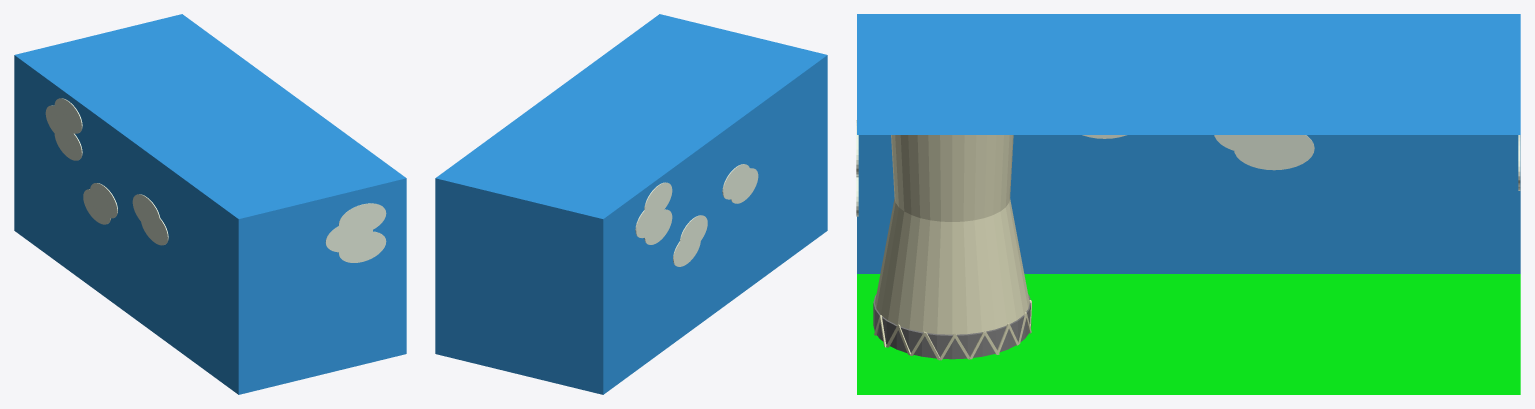
File: Outside-test.fbx
3 renders of one model, left to right at view 1: azimuth 30°, elevation 25°; view 2: azimuth 150°, elevation 25°; view 3: azimuth 270°, elevation 25°, orthographic. The views are drawn at different scales.
Parts seen in each view (by area): view 1: Cube, Cylinder.011, Cylinder.013, Cylinder.012, Cylinder.008, Cylinder.002, Cylinder.004, Cylinder.007, Cylinder.003, Cylinder.006, Cylinder.005; view 2: Cube, Cylinder.006, Cylinder.005, Cylinder.003, Cylinder.007, Cylinder.008, Cylinder.004, Cylinder.002; view 3: Cube, Cube.001, Cylinder, Cylinder.001, Cylinder.004, Cylinder.005.
Boxes of the visible parts, x1=… form: Cube: x1=14, y1=14, x2=406, y2=394; Cylinder.011: x1=338, y1=231, x2=386, y2=262; Cylinder.013: x1=338, y1=203, x2=386, y2=234; Cylinder.012: x1=325, y1=221, x2=372, y2=252; Cylinder.008: x1=54, y1=98, x2=82, y2=133; Cylinder.002: x1=140, y1=210, x2=168, y2=245; Cylinder.004: x1=83, y1=189, x2=110, y2=224; Cylinder.007: x1=54, y1=125, x2=82, y2=160; Cylinder.003: x1=132, y1=194, x2=160, y2=229; Cylinder.006: x1=45, y1=105, x2=72, y2=139; Cylinder.005: x1=90, y1=183, x2=117, y2=218; Cube: x1=435, y1=14, x2=827, y2=394; Cylinder.006: x1=635, y1=203, x2=663, y2=238; Cylinder.005: x1=680, y1=215, x2=707, y2=250; Cylinder.003: x1=722, y1=164, x2=750, y2=199; Cylinder.007: x1=644, y1=209, x2=672, y2=244; Cylinder.008: x1=644, y1=182, x2=672, y2=217; Cylinder.004: x1=673, y1=231, x2=700, y2=266; Cylinder.002: x1=731, y1=168, x2=758, y2=203; Cube: x1=857, y1=14, x2=1520, y2=273; Cube.001: x1=857, y1=274, x2=1520, y2=394; Cylinder: x1=875, y1=135, x2=1029, y2=334; Cylinder.001: x1=873, y1=294, x2=1031, y2=359; Cylinder.004: x1=1233, y1=135, x2=1314, y2=170; Cylinder.005: x1=1214, y1=135, x2=1291, y2=153.
Size of the model in its own units: 580 by 582 by 1337.
